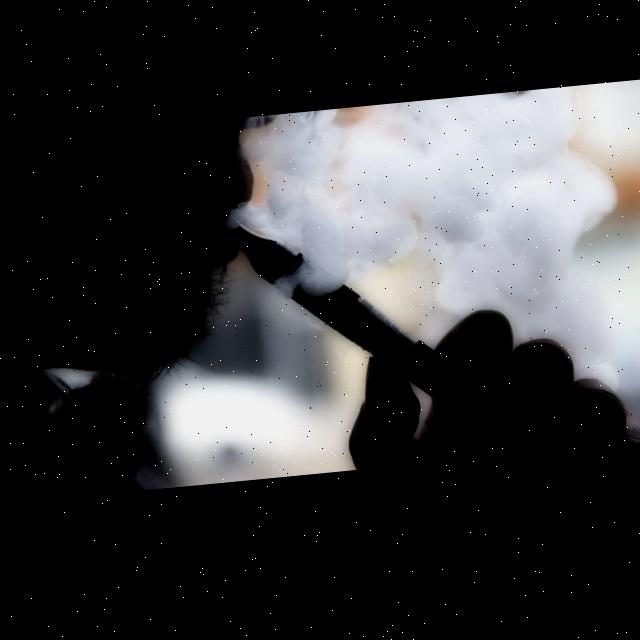vape: (221, 208, 432, 420)
